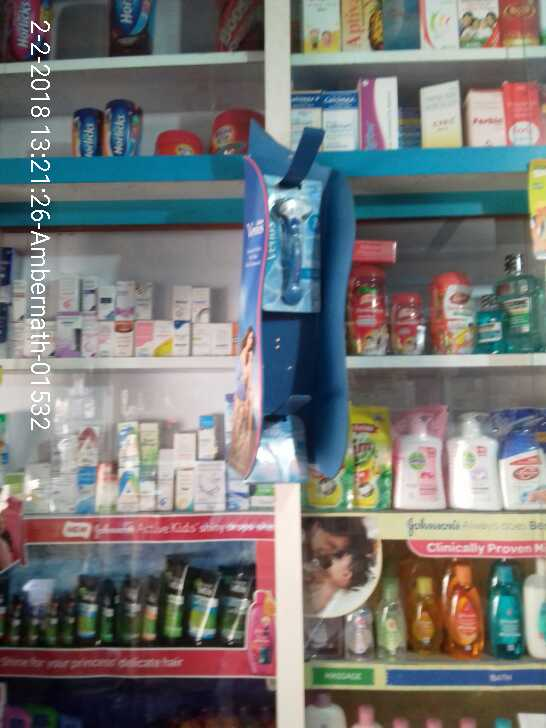venus: (259, 176, 330, 317)
